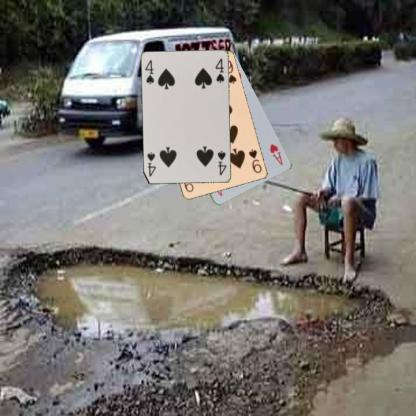4s: (142, 58, 156, 86), (216, 148, 228, 177)
9s: (246, 146, 263, 174)
Ah: (266, 141, 284, 166)
